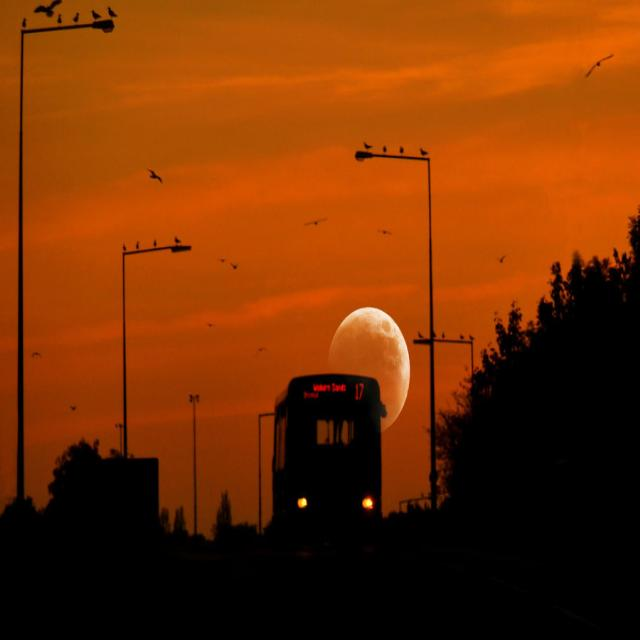Bus: (244, 346, 408, 557)
